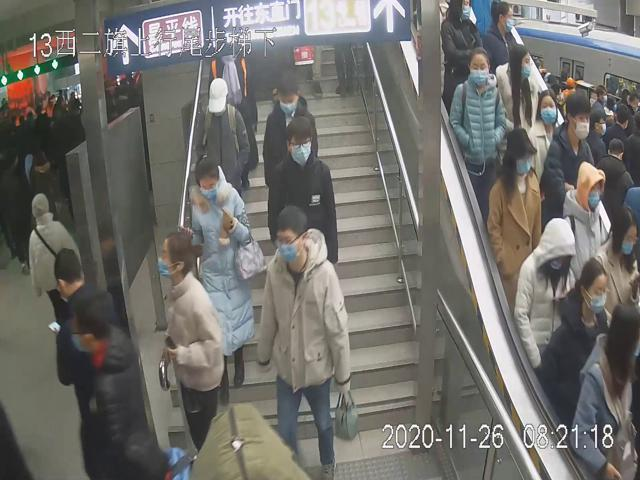person: (255, 203, 356, 480), (187, 150, 263, 404), (156, 227, 225, 454), (267, 114, 340, 275), (485, 124, 543, 301), (449, 44, 506, 203), (263, 71, 318, 192), (198, 73, 249, 190)
